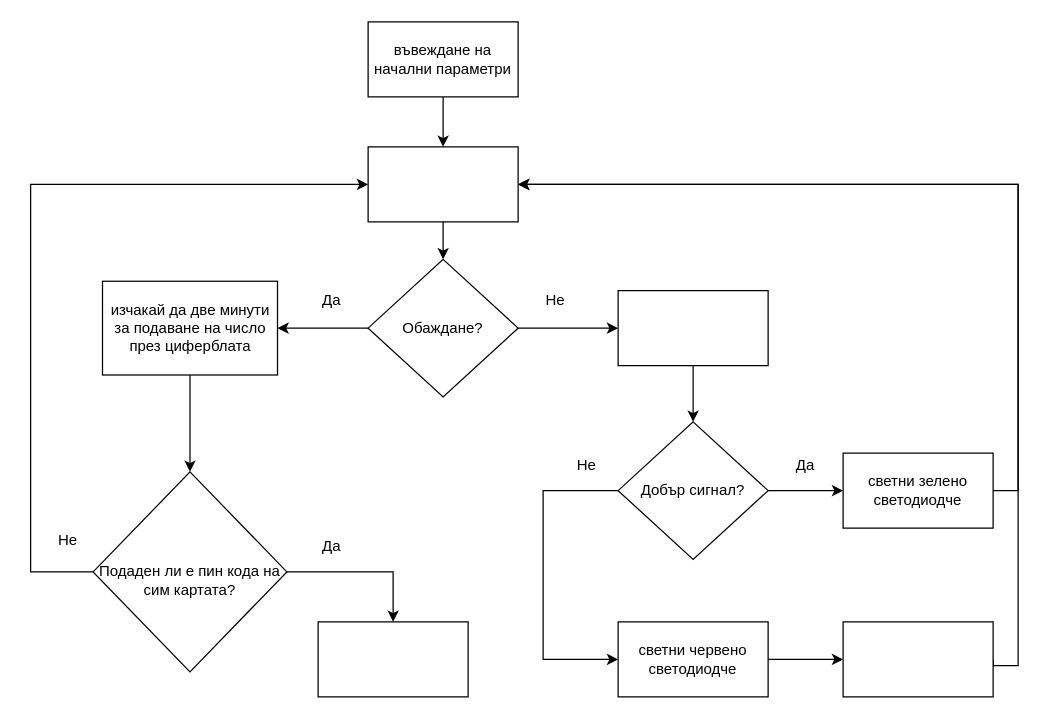
The diagram is 1050 pixels wide and 719 high, and some of its shapes have lost their labels. Here are the shapes that lost their labels. From the top down, the centre of each, then its label:
point (442, 184): цикъл()
point (692, 327): Провери сигнала
point (392, 659): активирай по-сложни процеси
point (917, 659): изчакай 30 секунди
